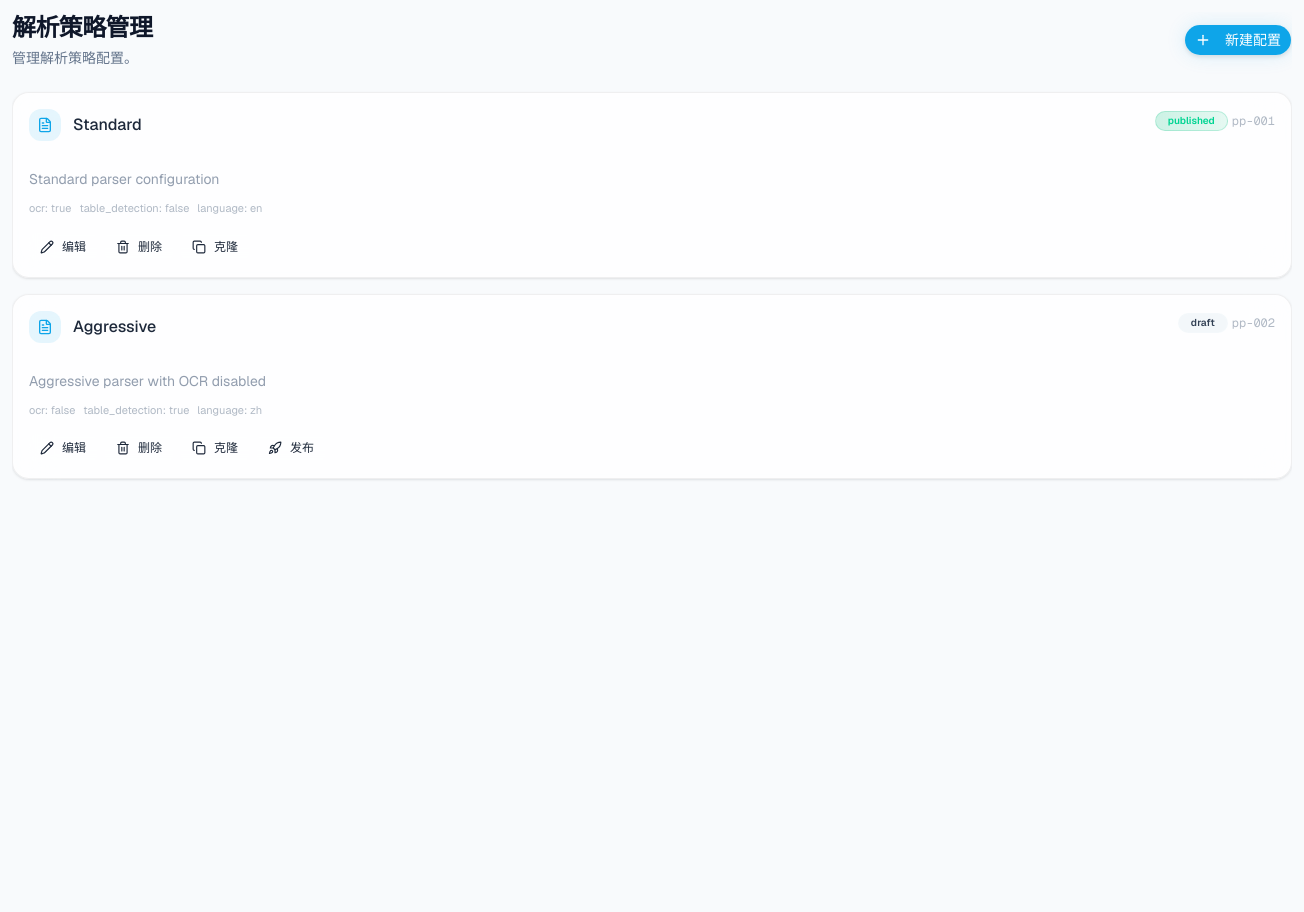
Test: ParserProfilesPage › Clone Profile › clones profile and adds copy to list
Expected: the text "Standard" is shown, [73,113,142,137]
Click the button "克隆" below "en" at point(215, 247), box [181,233,249,261]
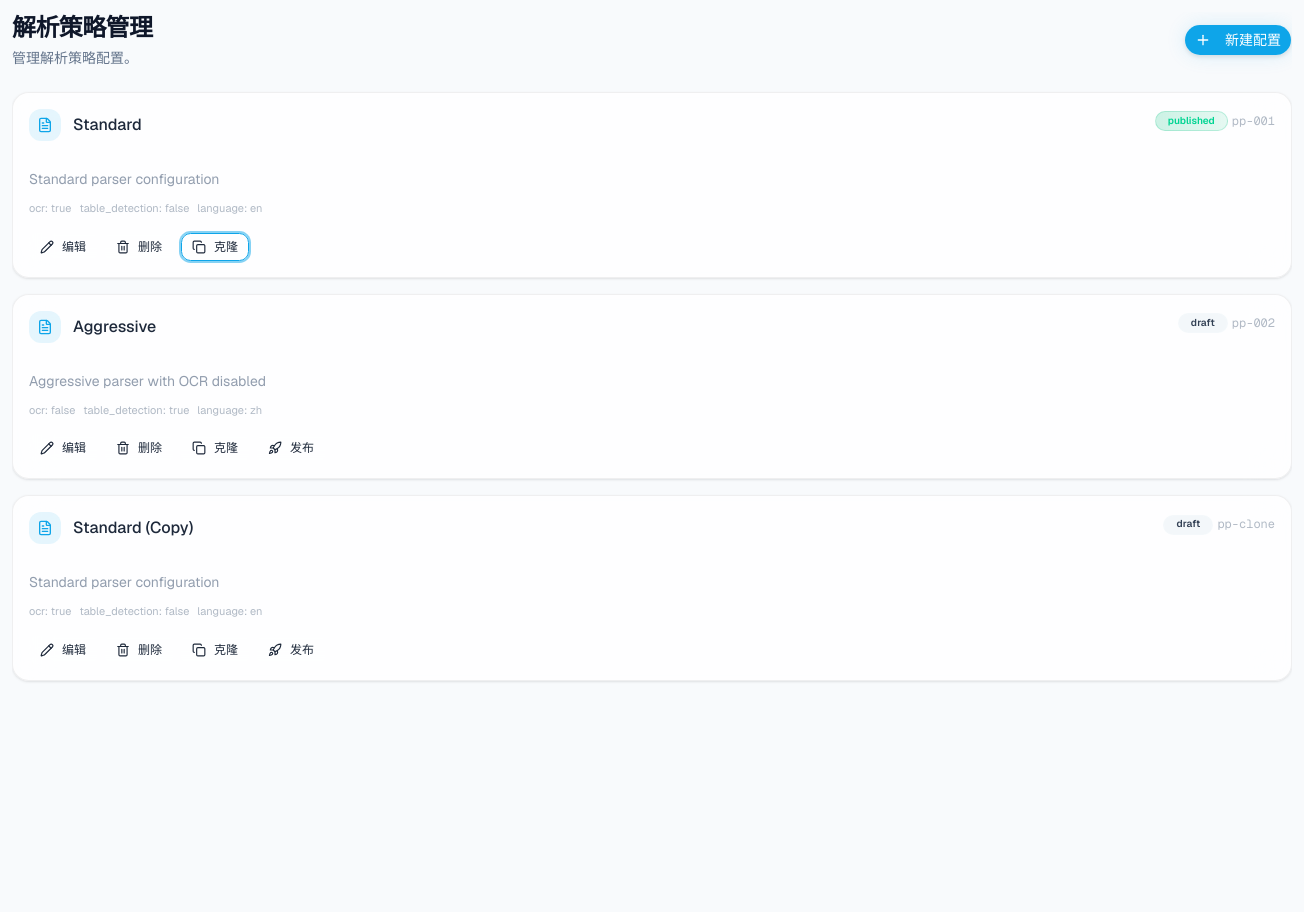
Expected: the text "Standard (Copy)" is shown, [73,516,193,540]
